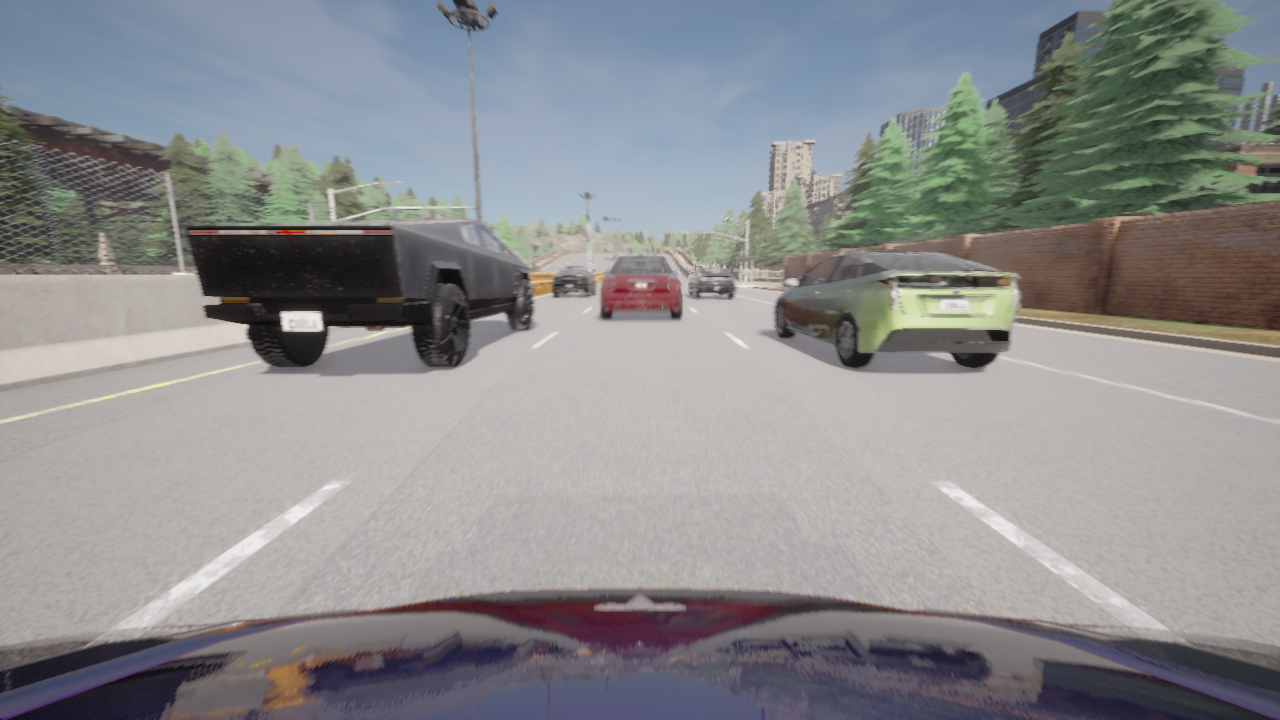cyclist: (0, 588, 1279, 719), (184, 220, 533, 367), (773, 251, 1019, 367), (601, 254, 681, 318), (688, 267, 735, 298), (552, 265, 595, 296)
